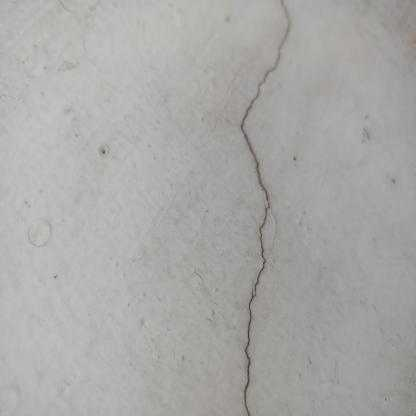crack: (240, 1, 290, 415)
